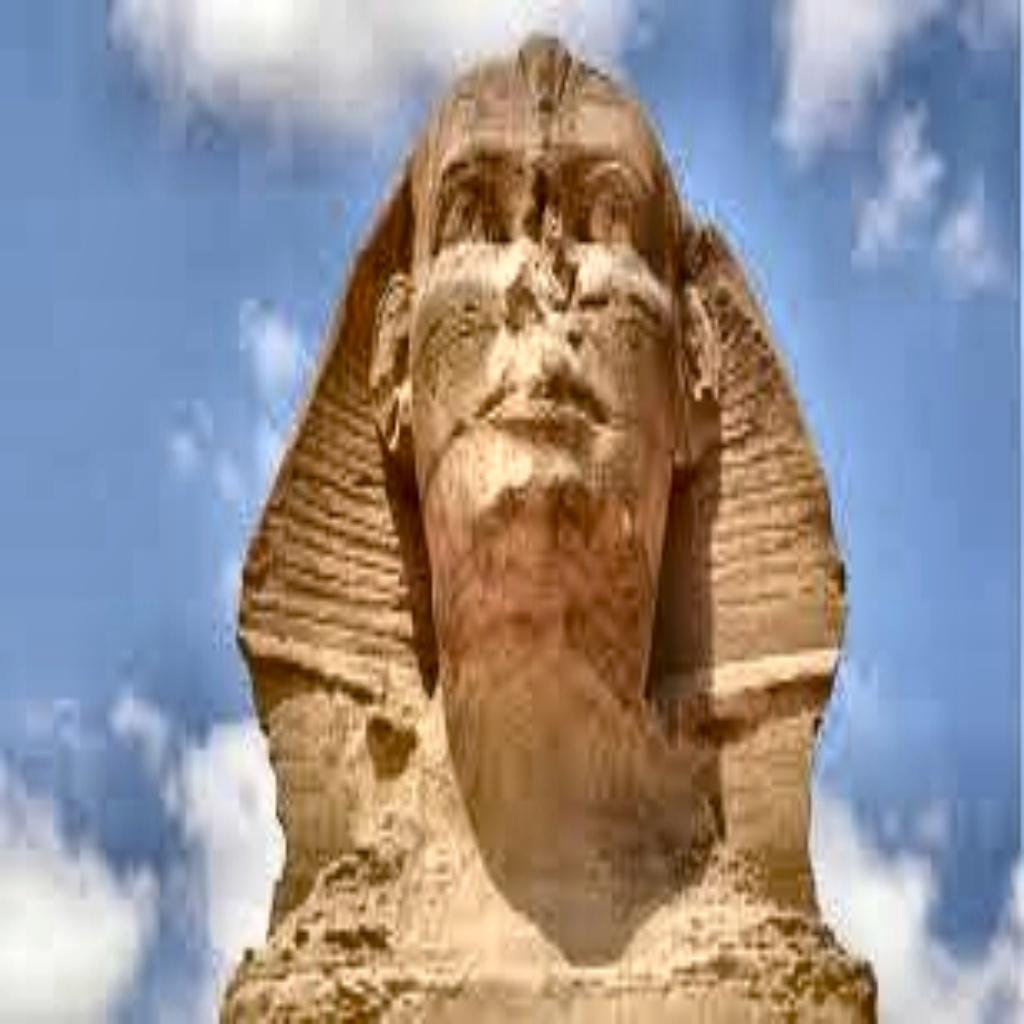Sphinx: (216, 25, 878, 1018)
